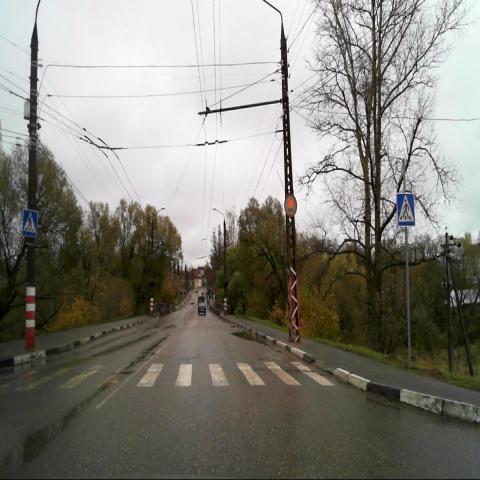3_32: (284, 193, 298, 219)
